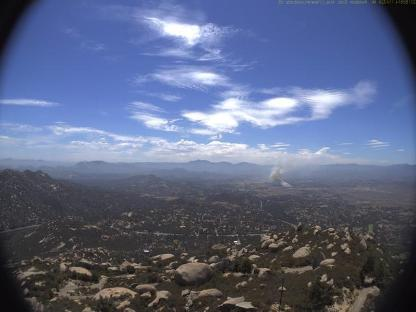smoke: (266, 158, 296, 192)
